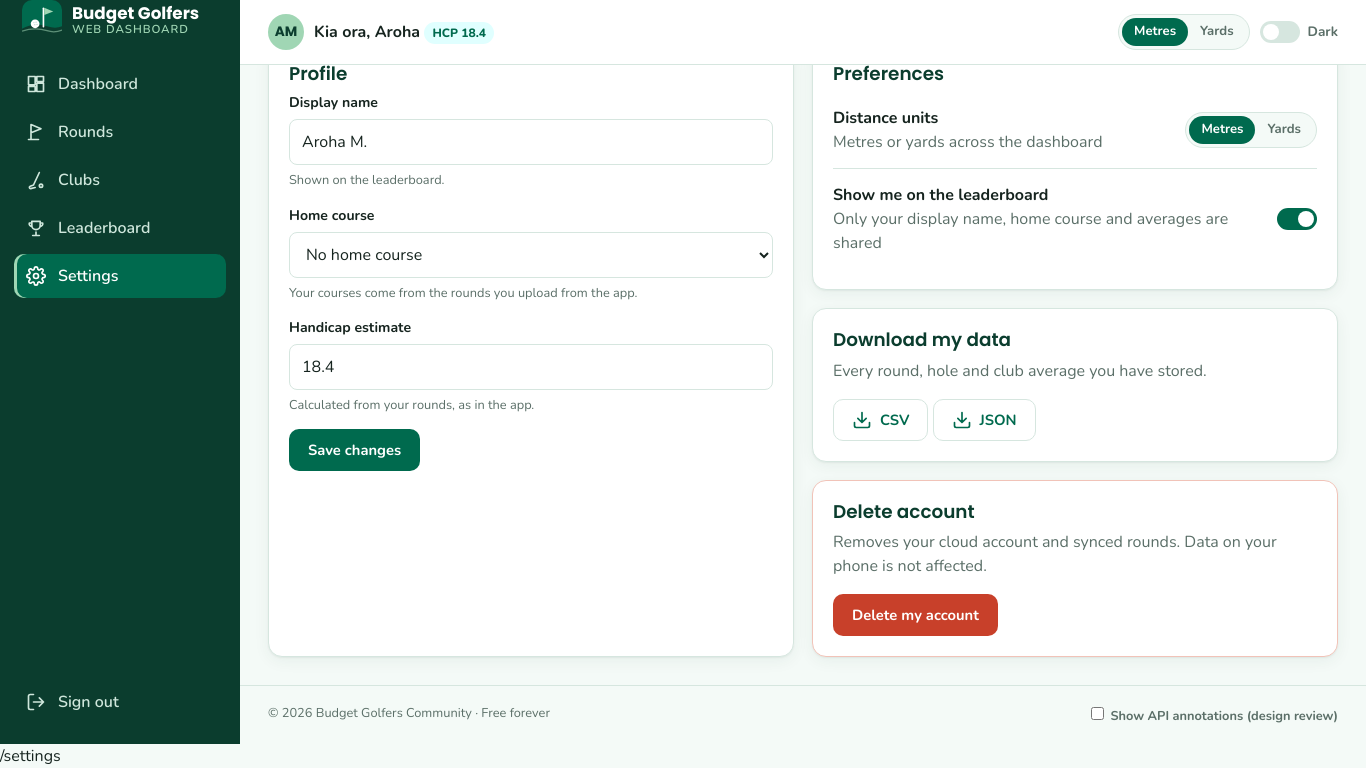
settings › deleting the account needs DELETE typed first
(page scrolled)
Click the button "Delete my account" at (915, 615), box [833, 594, 998, 636]
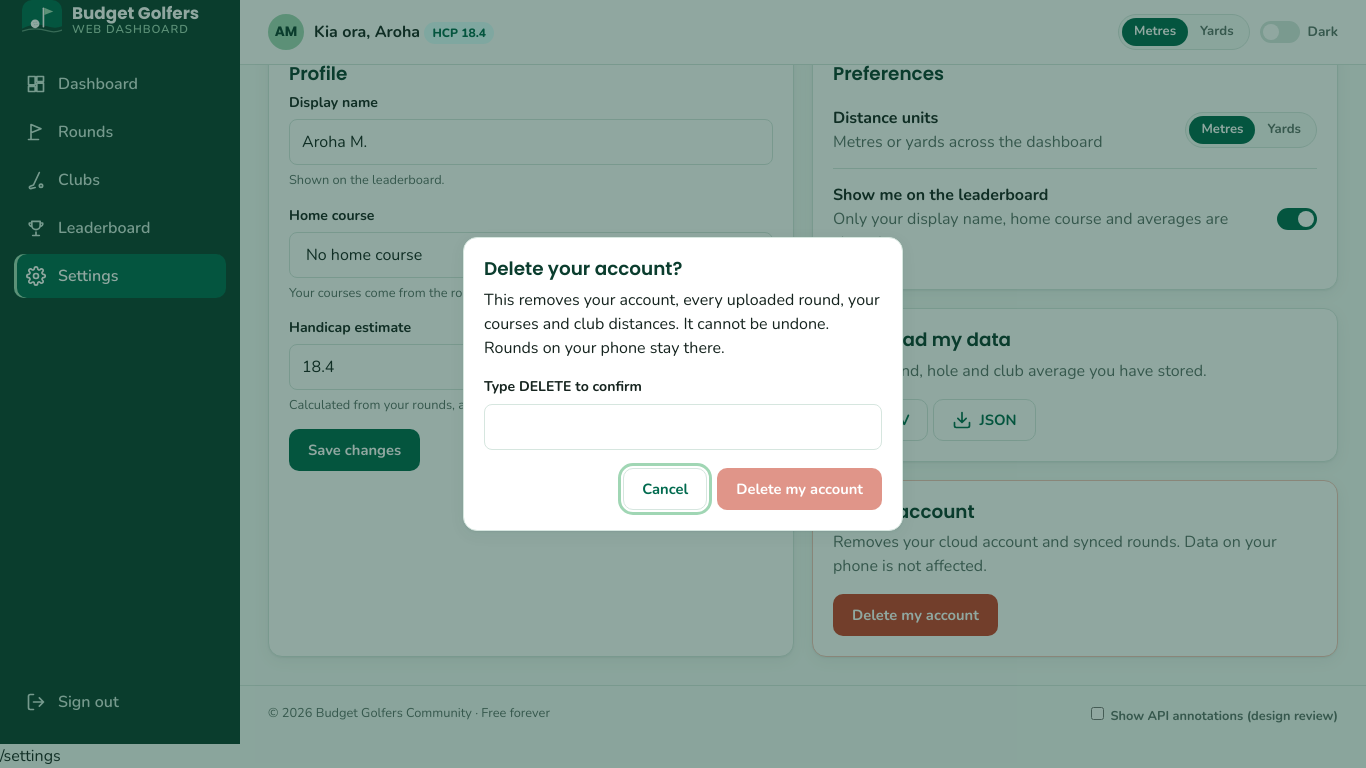
Expected: the button "Delete my account" is disabled, [717, 468, 882, 510]
Type "delete" into the field labelled "Type DELETE to confirm" at (683, 427), box [484, 404, 882, 450]
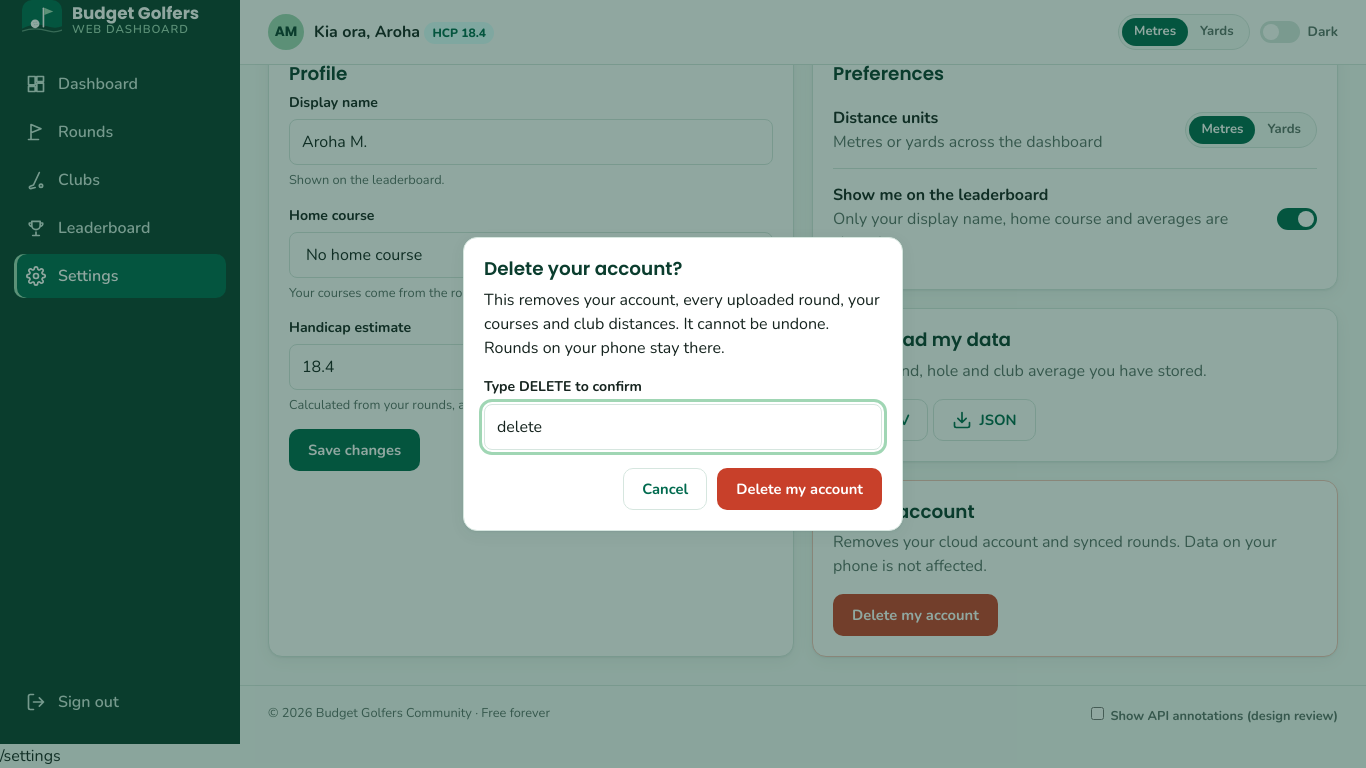
Expected: the button "Delete my account" is enabled
Click the button "Delete my account" at (800, 489), box [717, 468, 882, 510]
(page scrolled)
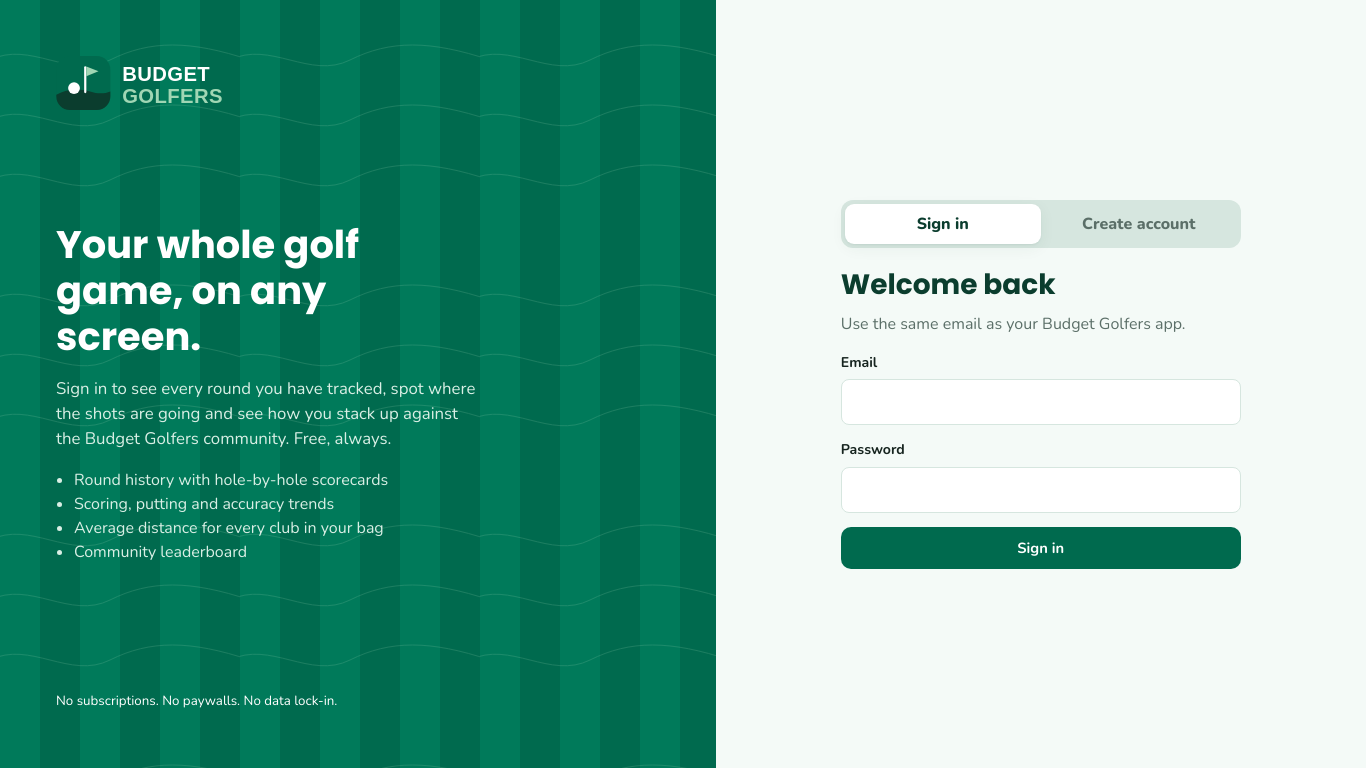
Expected: the heading "Welcome back" is shown, [841, 264, 1056, 304]
